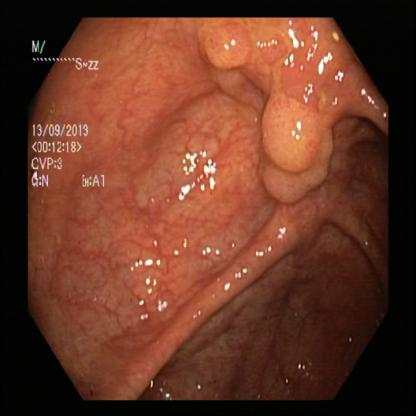Labels: (30, 33, 110, 188)
Polyps: (261, 83, 330, 206), (199, 21, 269, 72)
